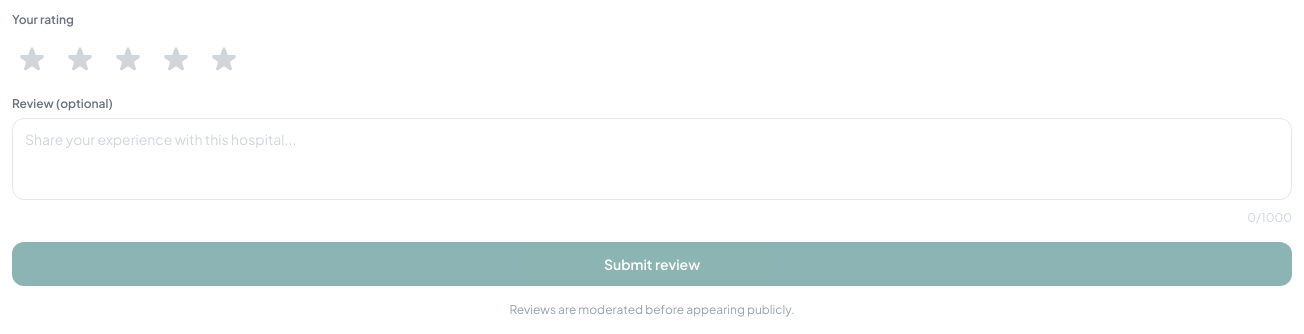
Test: RatingWidget › shows rating label when star is selected
What coordinates should you click on to do the following:
click the 5th button
I would click on:
 (224, 60)
Its box is [204, 40, 244, 80].
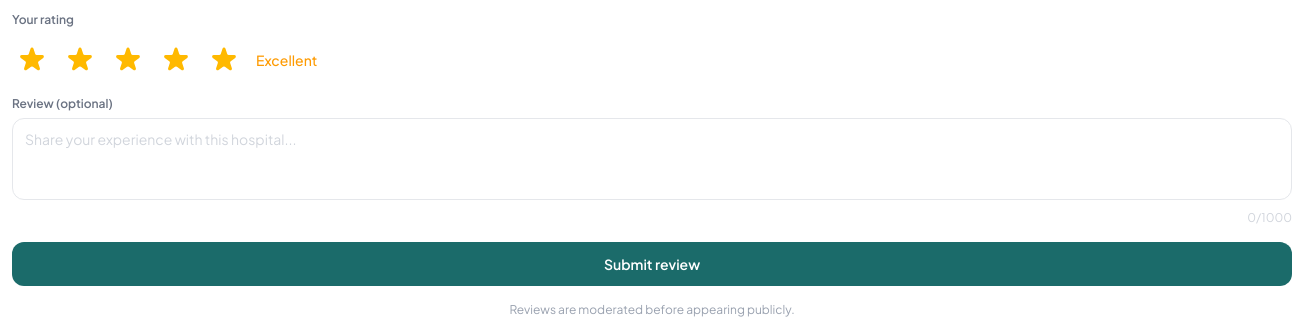
Expected: the text "Excellent" is shown, [256, 50, 317, 70]
